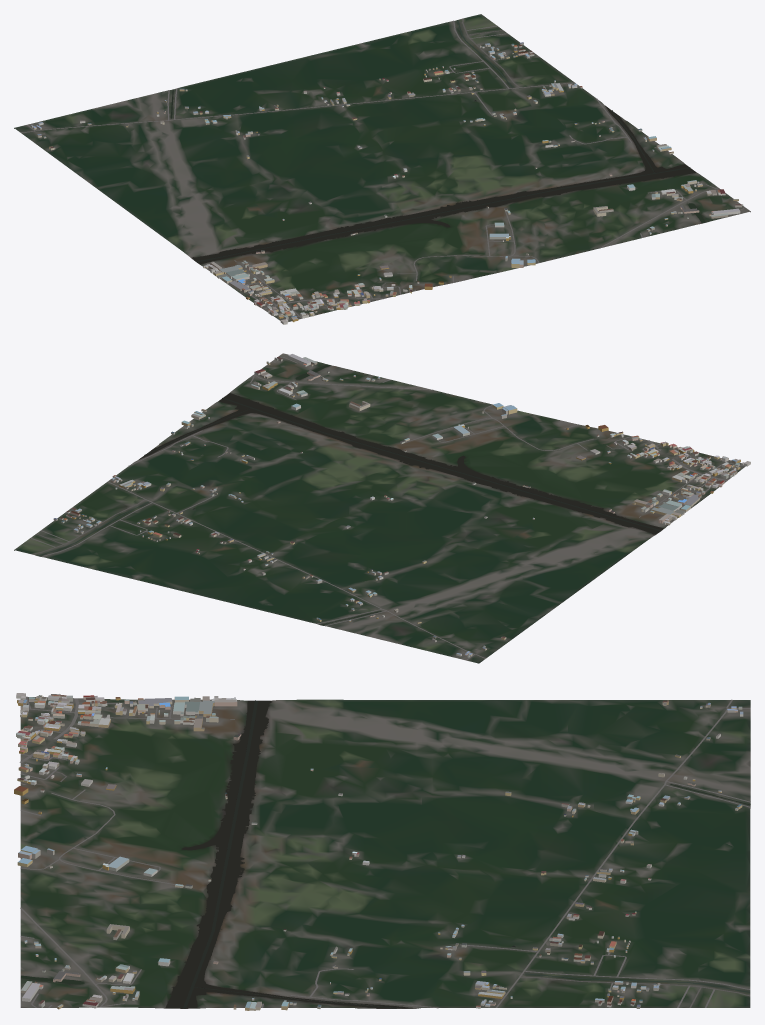
3 views of the same model, one above another, from view 1: azimuth 30°, elevation 25°; view 2: azimuth 150°, elevation 25°; view 3: azimuth 270°, elevation 25° (orthographic). The views are drawn at different scales.
Visible parts, largest first — view 1: ground, buildings, water, roads; view 2: ground, buildings, water, roads; view 3: ground, buildings, water, roads.
Boxes of the visible parts, <box> form: ground: <box>14,14,750,321</box>; buildings: <box>30,42,743,324</box>; water: <box>170,20,705,264</box>; roads: <box>21,18,744,319</box>; ground: <box>14,353,744,663</box>; buildings: <box>53,354,750,657</box>; water: <box>38,364,663,624</box>; roads: <box>30,357,745,660</box>; ground: <box>20,697,750,1008</box>; buildings: <box>14,693,743,1010</box>; water: <box>21,700,750,1008</box>; roads: <box>19,696,750,1008</box>.
Bounding box in the file's own units: 1416 × 21.2 × 1414.
